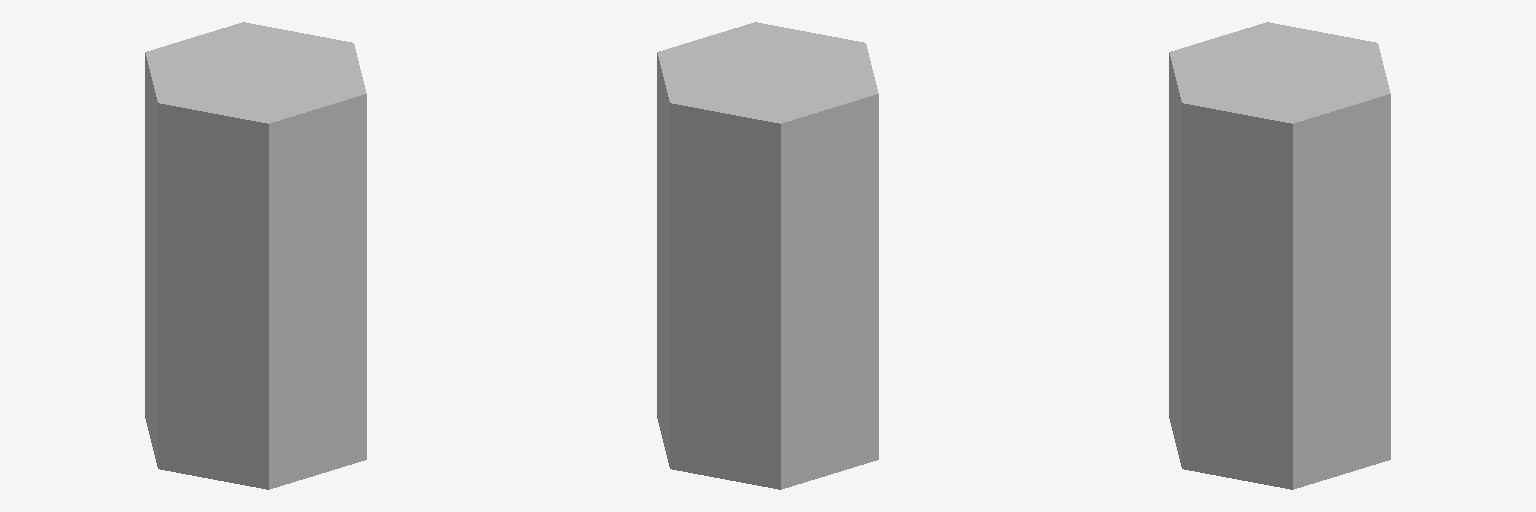
The model's file is original-40.obj.
3 renders of one model, left to right at view 1: azimuth 30°, elevation 25°; view 2: azimuth 150°, elevation 25°; view 3: azimuth 270°, elevation 25°, orthographic.
Parts seen in each view (by area): view 1: Can26/Can/mesh5/mesh5-geometry#mesh5-geometry; view 2: Can26/Can/mesh5/mesh5-geometry#mesh5-geometry; view 3: Can26/Can/mesh5/mesh5-geometry#mesh5-geometry.
Part boxes in pixels (x1,y1,x2,y2): Can26/Can/mesh5/mesh5-geometry#mesh5-geometry: (145, 22, 366, 489); Can26/Can/mesh5/mesh5-geometry#mesh5-geometry: (657, 22, 878, 489); Can26/Can/mesh5/mesh5-geometry#mesh5-geometry: (1169, 22, 1390, 489).
Size of the model in its own units: 0.0532 by 0.0892 by 0.0489.